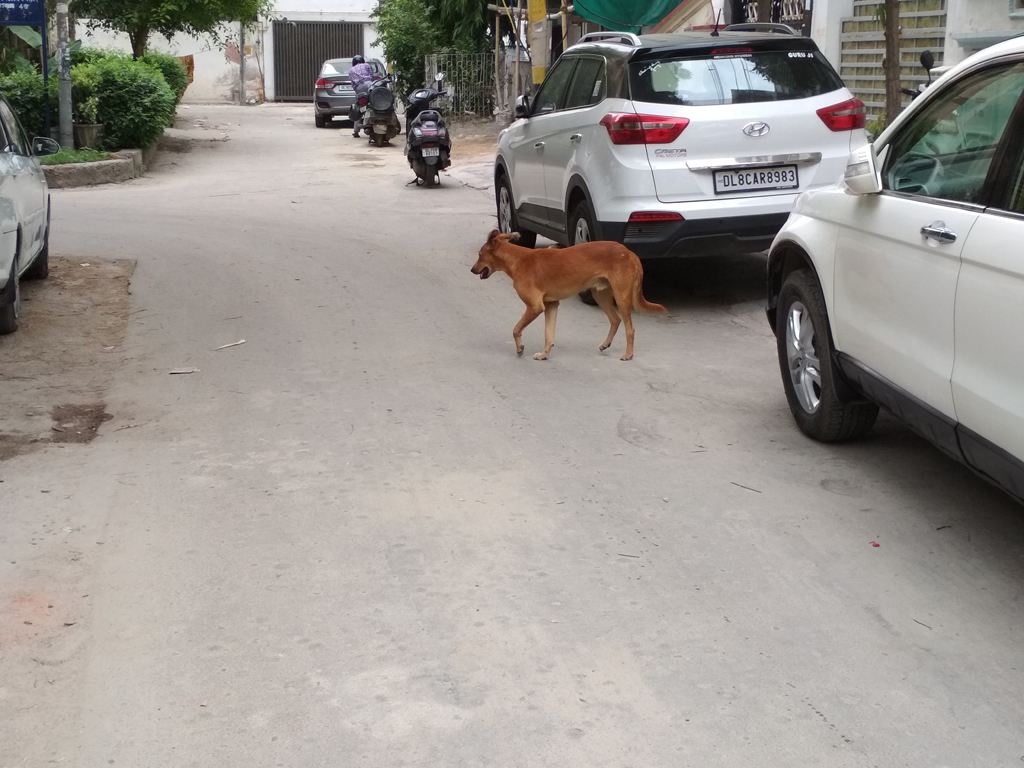dog: (471, 229, 672, 361)
